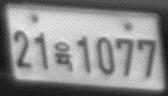0: (95, 35, 115, 76)
1: (34, 30, 50, 71), (76, 34, 91, 74)
2: (11, 29, 32, 68)
7: (136, 38, 157, 77), (115, 37, 135, 77)
육: (53, 40, 74, 72)
